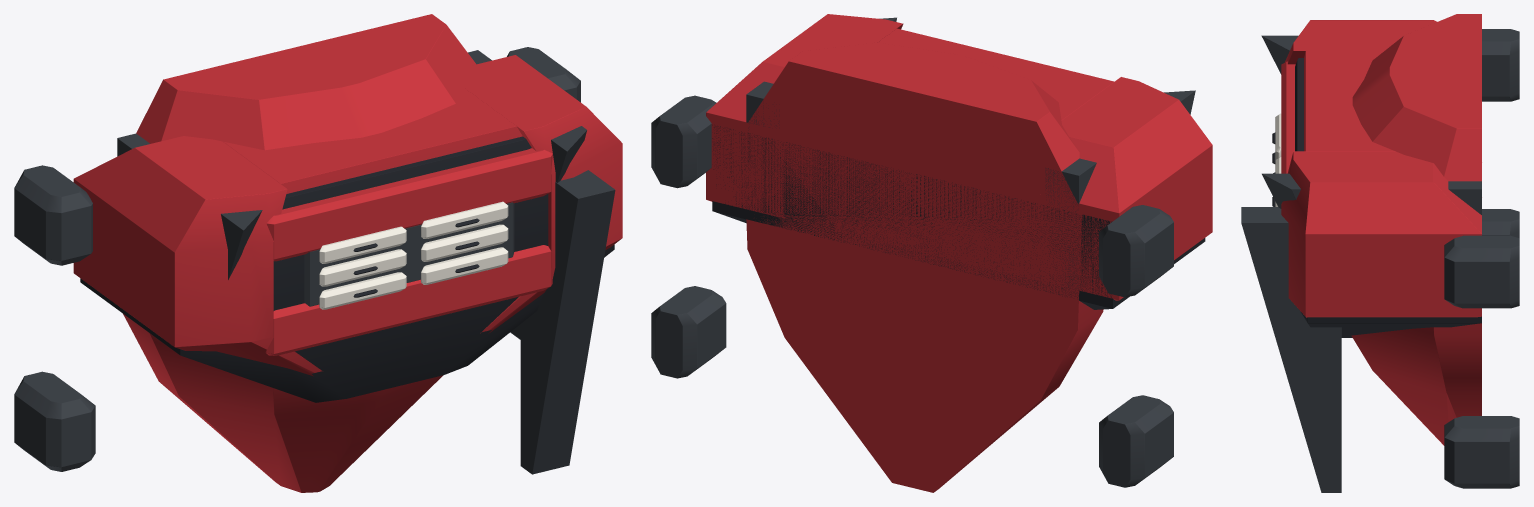
Rendered from LowerArmFront_Set07_Salvo.fbx.
The picture shows the model from 3 angles, left to right: view 1: azimuth 30°, elevation 25°; view 2: azimuth 150°, elevation 25°; view 3: azimuth 270°, elevation 25°; orthographic projection. The views are drawn at different scales.
Visible parts, largest first — view 1: LowerArmFront_Set07_Salvo; view 2: LowerArmFront_Set07_Salvo; view 3: LowerArmFront_Set07_Salvo.
Part boxes in pixels (x1,y1,x2,y2): LowerArmFront_Set07_Salvo: [14, 14, 622, 492]; LowerArmFront_Set07_Salvo: [651, 14, 1212, 492]; LowerArmFront_Set07_Salvo: [1241, 14, 1519, 492].
Size of the model in its own units: 0.43 by 0.33 by 0.222.
